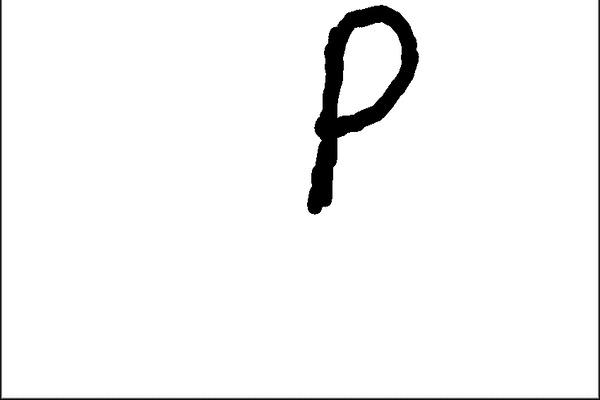P: (296, 0, 430, 231)
